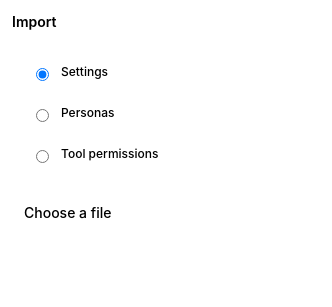
it: a file this build wrote is read, summarized, and handed on
Click the button "Choose a file" at (68, 213), box [12,195,123,231]
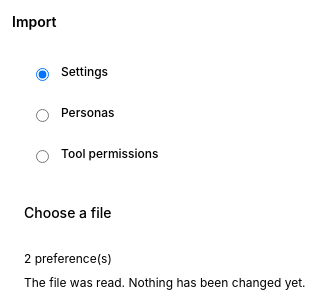
Check: the text with test id "portable-import-summary" reads "2 preference(s)", box [24,251,112,266]
Check: the message with test id "portable-import-outcome" shows "Nothing has been changed yet.", box [24,275,306,290]
